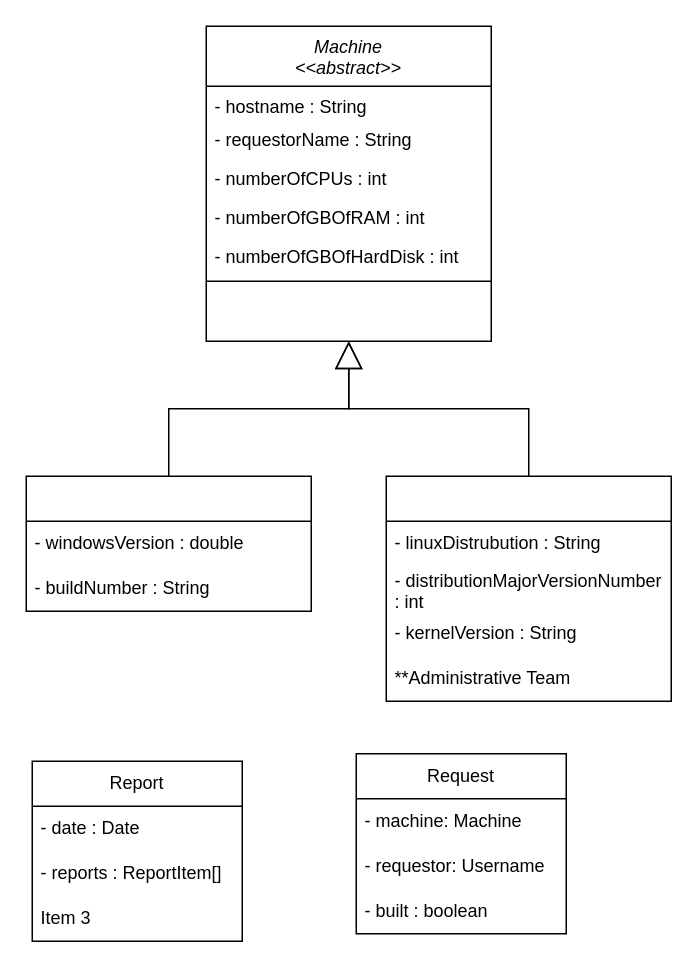
The diagram is 698 pixels wide and 968 high, and some of its shapes have lost their labels. The box of each missing label's shape, as (x1, y1, x2, y2) in pixels:
Desktop: (25, 475, 311, 611)
Server: (385, 475, 671, 701)
